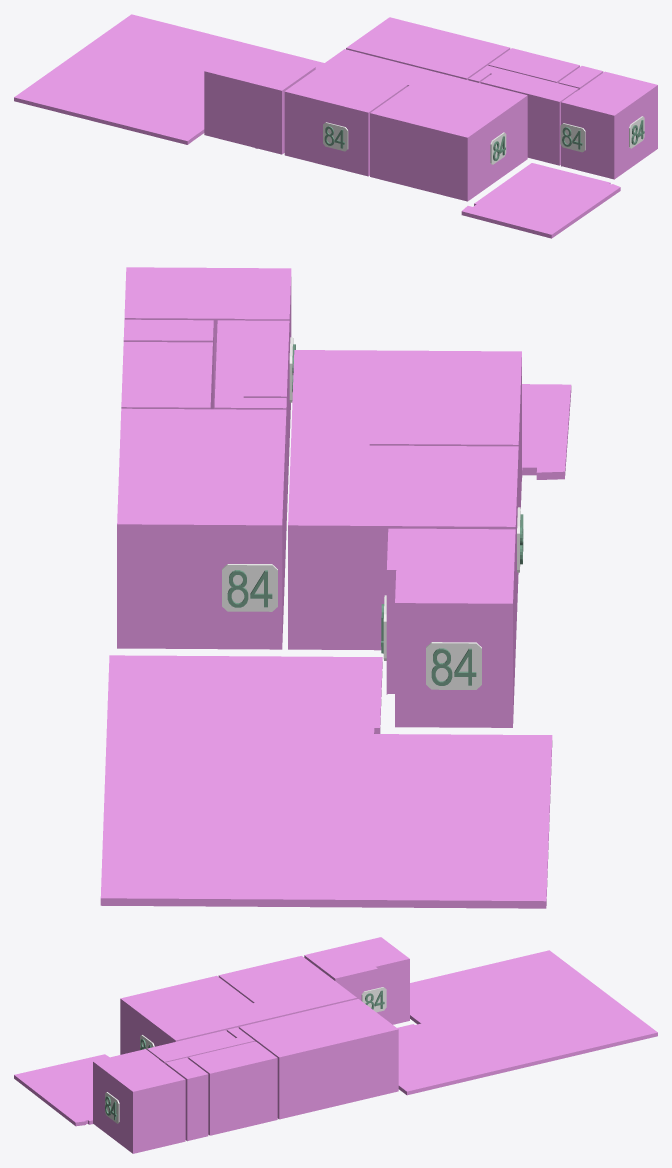
3 views of the same model, one above another, from view 1: azimuth 30°, elevation 25°; view 2: azimuth 150°, elevation 25°; view 3: azimuth 270°, elevation 25° (orthographic). The views are drawn at different scales.
Parts seen in each view (by area): view 1: g_8, g_0, g_1, g_7, g_3, g_9, g_2, g_6, g_4, g_5, g_18, g_30; view 2: g_8, g_2, g_1, g_7, g_0, g_3, g_6, g_4, g_9, g_5, g_12, g_21; view 3: g_8, g_2, g_3, g_0, g_4, g_7, g_1, g_9, g_5, g_6, g_27.
Boxes of the visible parts, bbox=[...] form: g_8: bbox=[14, 14, 324, 144]; g_0: bbox=[370, 70, 527, 201]; g_1: bbox=[284, 49, 429, 176]; g_7: bbox=[204, 49, 315, 154]; g_3: bbox=[561, 71, 657, 179]; g_9: bbox=[461, 163, 620, 238]; g_2: bbox=[346, 17, 510, 79]; g_6: bbox=[468, 65, 578, 165]; g_4: bbox=[488, 48, 579, 82]; g_5: bbox=[558, 66, 603, 89]; g_18: bbox=[560, 123, 585, 152]; g_30: bbox=[323, 122, 348, 151]; g_8: bbox=[100, 655, 552, 908]; g_2: bbox=[117, 408, 286, 649]; g_1: bbox=[288, 443, 518, 650]; g_7: bbox=[386, 528, 515, 727]; g_0: bbox=[291, 350, 521, 508]; g_3: bbox=[124, 267, 291, 437]; g_6: bbox=[214, 320, 289, 530]; g_4: bbox=[121, 342, 212, 409]; g_9: bbox=[522, 384, 571, 479]; g_5: bbox=[123, 319, 213, 409]; g_12: bbox=[426, 642, 481, 689]; g_21: bbox=[222, 564, 277, 611]; g_8: bbox=[397, 950, 657, 1095]; g_2: bbox=[239, 999, 398, 1119]; g_3: bbox=[93, 1049, 185, 1153]; g_0: bbox=[120, 975, 272, 1054]; g_4: bbox=[188, 1041, 277, 1135]; g_7: bbox=[304, 937, 409, 1024]; g_1: bbox=[218, 956, 356, 1018]; g_9: bbox=[14, 1054, 109, 1126]; g_5: bbox=[165, 1057, 208, 1141]; g_6: bbox=[147, 1027, 254, 1063]; g_27: bbox=[361, 987, 386, 1012].
Bounding box in the file's own units: 17.52 × 2.65 × 23.36.
